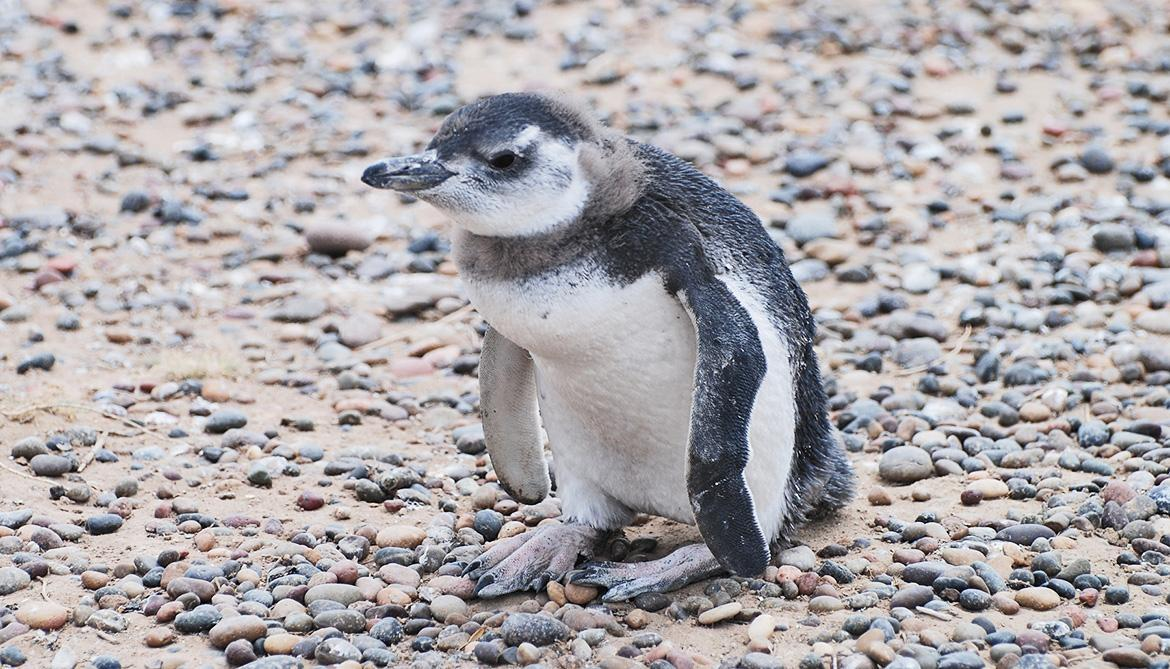Penguin: (361, 94, 852, 602)
